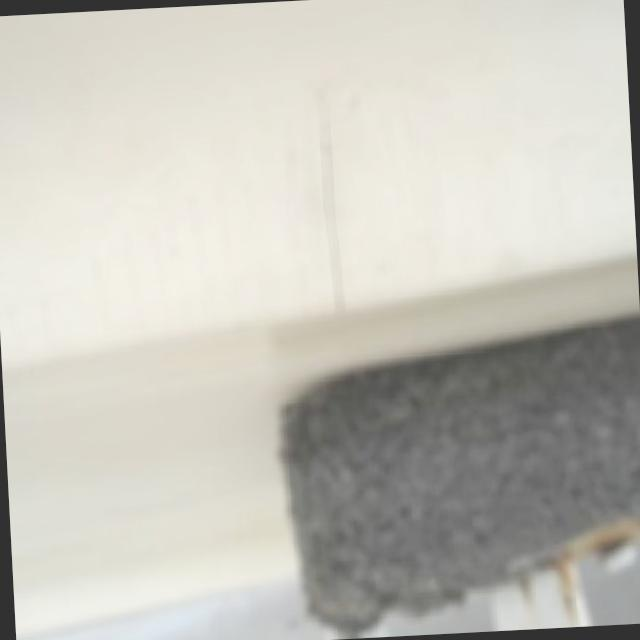crack: (315, 90, 345, 314)
